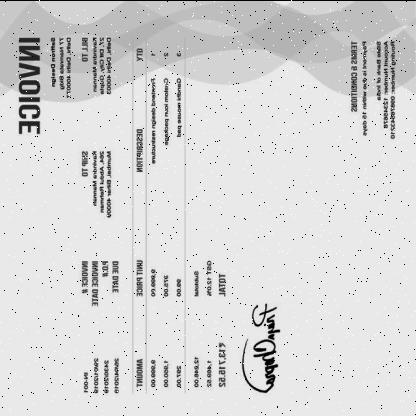Paragraph: (80, 257, 120, 395), (349, 36, 398, 140), (192, 256, 228, 388), (80, 146, 114, 219), (17, 34, 41, 136), (80, 34, 112, 96), (50, 34, 72, 98)
Table: (133, 35, 185, 392)
